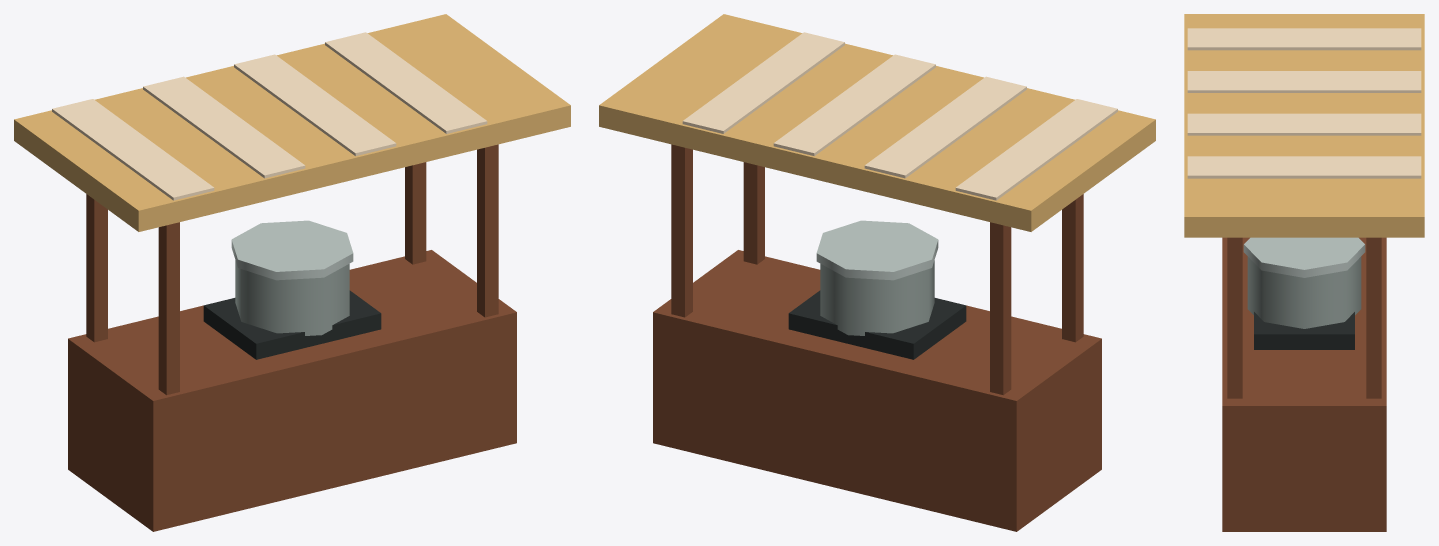
File: noodle.glb
The picture shows the model from 3 angles, left to right: view 1: azimuth 30°, elevation 25°; view 2: azimuth 150°, elevation 25°; view 3: azimuth 270°, elevation 25°; orthographic projection. The views are drawn at different scales.
Parts seen in each view (by area): view 1: _MeshInstance3D_318, _MeshInstance3D_325, _MeshInstance3D_331, _MeshInstance3D_332, _MeshInstance3D_327, _MeshInstance3D_328, _MeshInstance3D_326, _MeshInstance3D_329, _MeshInstance3D_330, _MeshInstance3D_324, _MeshInstance3D_322, _MeshInstance3D_321 (+1 smaller); view 2: _MeshInstance3D_318, _MeshInstance3D_325, _MeshInstance3D_331, _MeshInstance3D_332, _MeshInstance3D_327, _MeshInstance3D_328, _MeshInstance3D_326, _MeshInstance3D_329, _MeshInstance3D_330, _MeshInstance3D_323, _MeshInstance3D_321, _MeshInstance3D_322 (+1 smaller); view 3: _MeshInstance3D_325, _MeshInstance3D_318, _MeshInstance3D_331, _MeshInstance3D_329, _MeshInstance3D_326, _MeshInstance3D_328, _MeshInstance3D_327, _MeshInstance3D_332, _MeshInstance3D_330, _MeshInstance3D_323, _MeshInstance3D_324.
Boxes of the visible parts, box(x1,y1,x2,y2) form: _MeshInstance3D_318: box(68, 250, 516, 531); _MeshInstance3D_325: box(14, 14, 570, 231); _MeshInstance3D_331: box(235, 260, 349, 335); _MeshInstance3D_332: box(231, 220, 353, 280); _MeshInstance3D_327: box(143, 76, 305, 178); _MeshInstance3D_328: box(234, 54, 396, 156); _MeshInstance3D_326: box(52, 99, 214, 200); _MeshInstance3D_329: box(325, 32, 487, 133); _MeshInstance3D_330: box(203, 290, 381, 359); _MeshInstance3D_324: box(477, 144, 498, 317); _MeshInstance3D_322: box(158, 222, 179, 395); _MeshInstance3D_321: box(86, 194, 107, 342); _MeshInstance3D_318: box(653, 250, 1101, 531); _MeshInstance3D_325: box(599, 14, 1155, 231); _MeshInstance3D_331: box(820, 260, 934, 335); _MeshInstance3D_332: box(816, 220, 938, 280); _MeshInstance3D_327: box(864, 76, 1026, 178); _MeshInstance3D_328: box(773, 54, 935, 156); _MeshInstance3D_326: box(955, 99, 1117, 200); _MeshInstance3D_329: box(682, 32, 844, 133); _MeshInstance3D_330: box(788, 290, 966, 359); _MeshInstance3D_323: box(671, 144, 692, 317); _MeshInstance3D_321: box(990, 222, 1011, 395); _MeshInstance3D_322: box(1062, 194, 1083, 342); _MeshInstance3D_325: box(1184, 14, 1424, 237); _MeshInstance3D_318: box(1222, 237, 1386, 531); _MeshInstance3D_331: box(1247, 256, 1361, 328); _MeshInstance3D_329: box(1187, 156, 1421, 178); _MeshInstance3D_326: box(1187, 28, 1421, 50); _MeshInstance3D_328: box(1187, 113, 1421, 135); _MeshInstance3D_327: box(1187, 71, 1421, 92); _MeshInstance3D_332: box(1243, 237, 1365, 277); _MeshInstance3D_330: box(1254, 312, 1354, 349); _MeshInstance3D_323: box(1366, 237, 1381, 398); _MeshInstance3D_324: box(1227, 237, 1242, 398).
Size of the model in its own units: 3.8 by 2.92 by 1.9.
